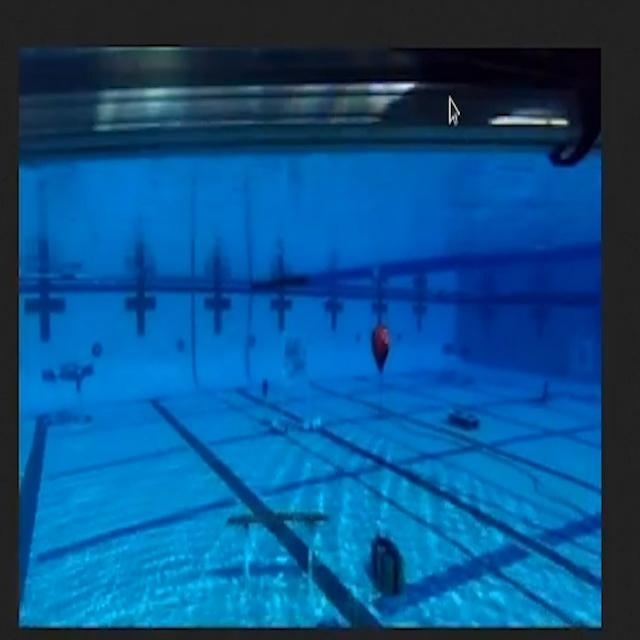Buoy: (367, 316, 393, 382)
